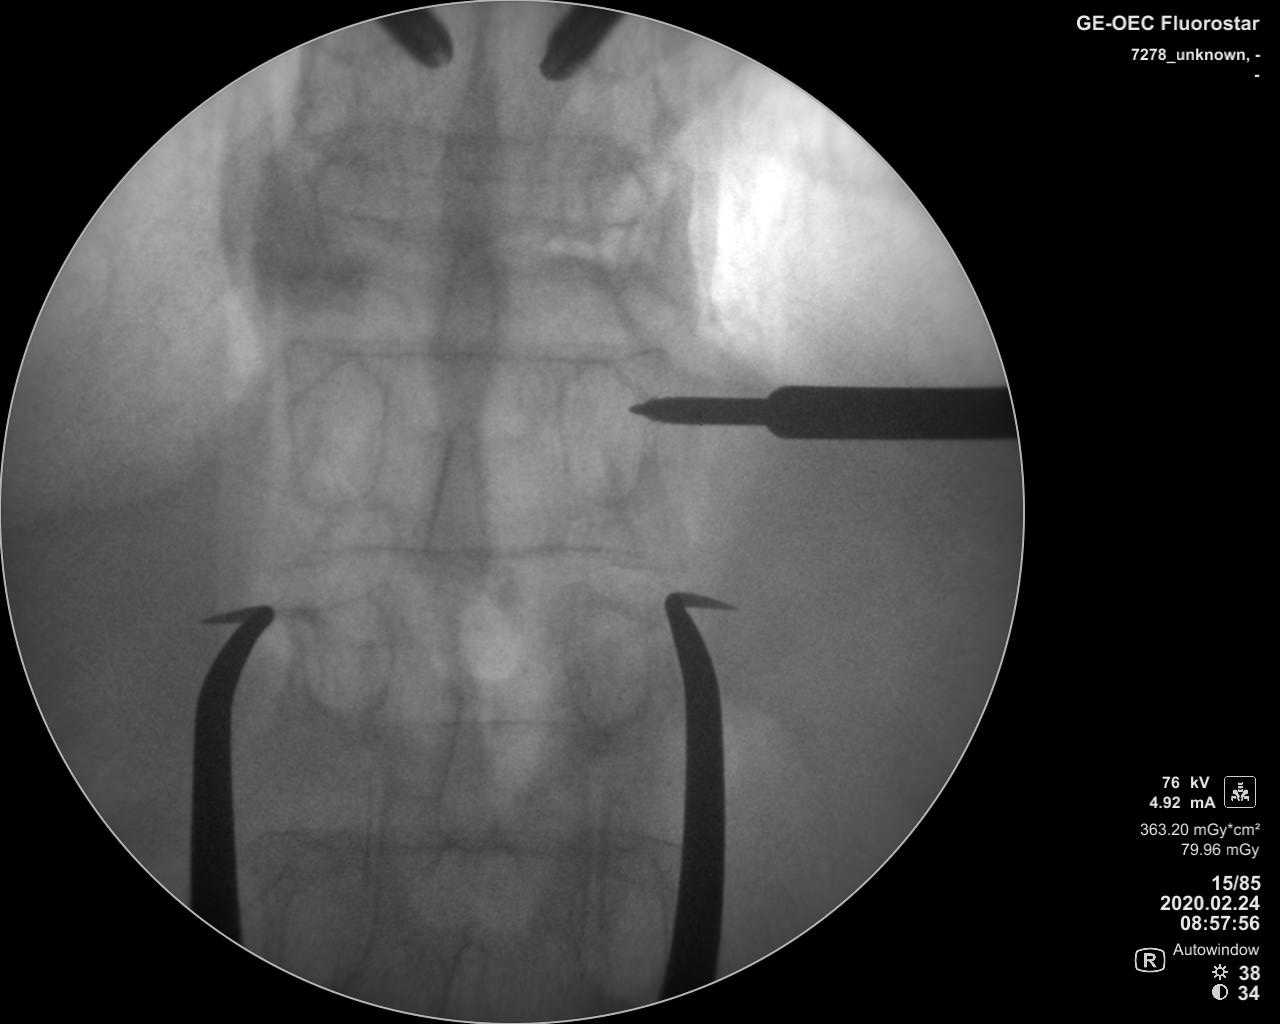eyes: (283, 364, 383, 513), (552, 362, 648, 510), (290, 590, 395, 721), (307, 143, 405, 277), (563, 594, 645, 737), (588, 164, 655, 292)
line: (281, 112, 659, 183), (275, 330, 676, 375), (273, 536, 664, 572)
nose: (420, 408, 491, 588), (426, 681, 501, 850), (453, 39, 502, 243), (432, 240, 501, 351)
